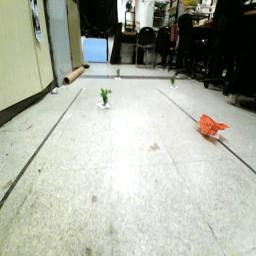herb: (100, 88, 113, 108), (170, 75, 177, 88), (117, 69, 122, 79)
wild: (197, 113, 232, 142)
